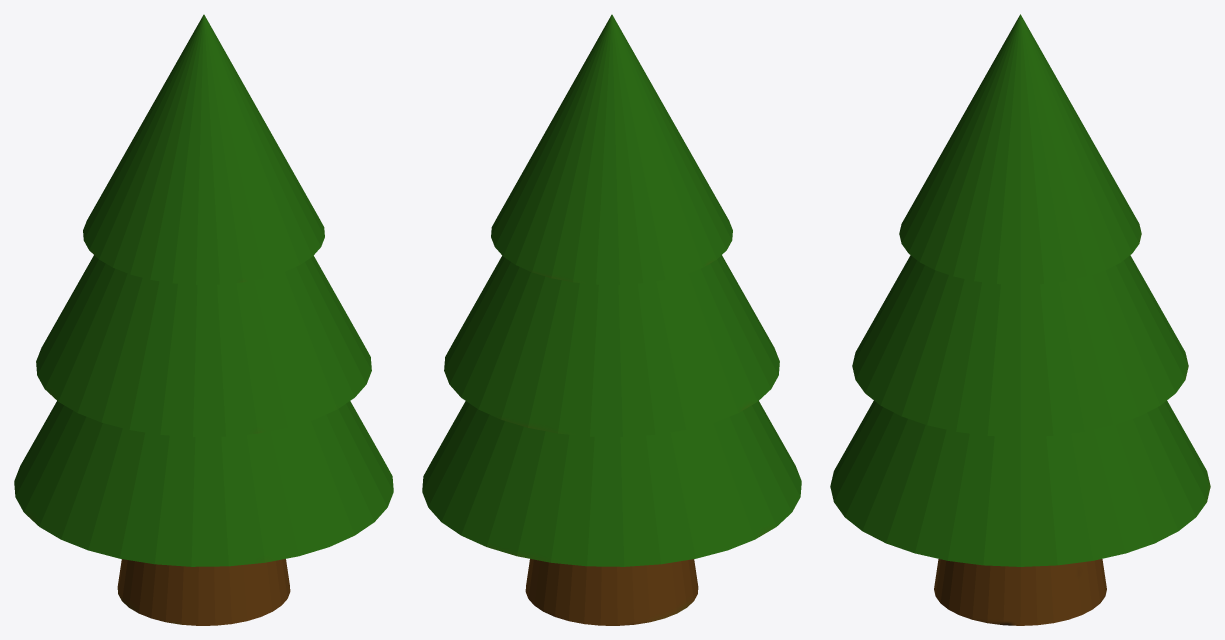
File: Tree.glb
3 views of the same model, side by side, from view 1: azimuth 30°, elevation 25°; view 2: azimuth 150°, elevation 25°; view 3: azimuth 270°, elevation 25° (orthographic).
Parts seen in each view (by area): view 1: Tree; view 2: Tree; view 3: Tree.
Part boxes in pixels (x1,y1,x2,y2): Tree: (14,14,393,625); Tree: (422,14,801,625); Tree: (830,14,1210,625).
Size of the model in its own units: 0.4168 by 0.6955 by 0.4168.
Materials: 1 (1 with a texture image).
